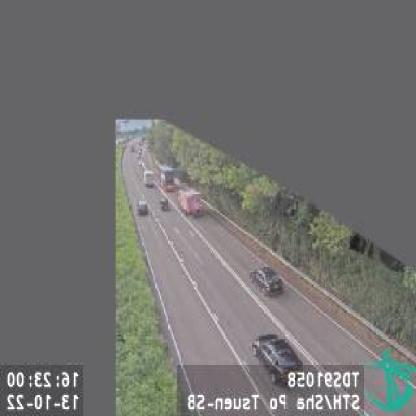Bus: (159, 166, 177, 192)
Car: (252, 329, 305, 388), (250, 262, 285, 296), (143, 167, 156, 190), (134, 196, 148, 216), (159, 197, 173, 212)
Truck: (176, 186, 206, 219)
